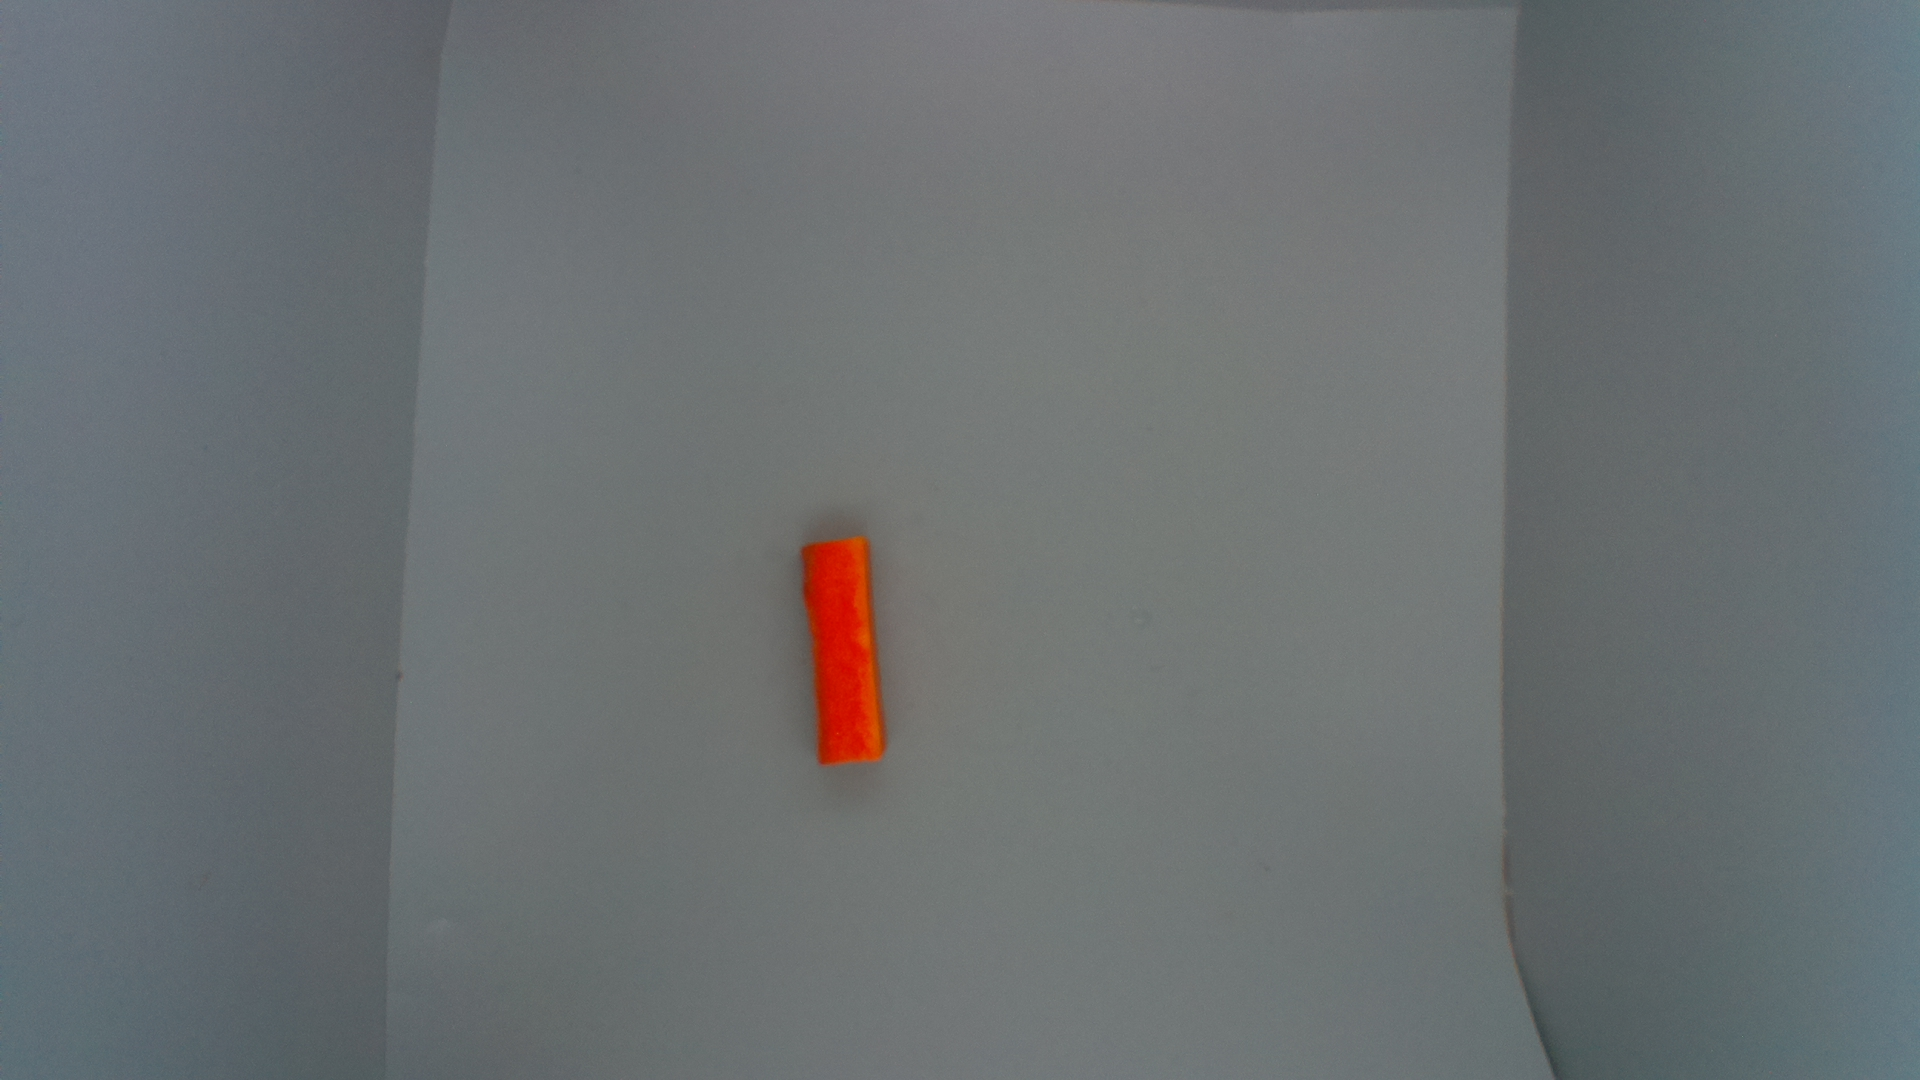carrot: (800, 534, 891, 769)
